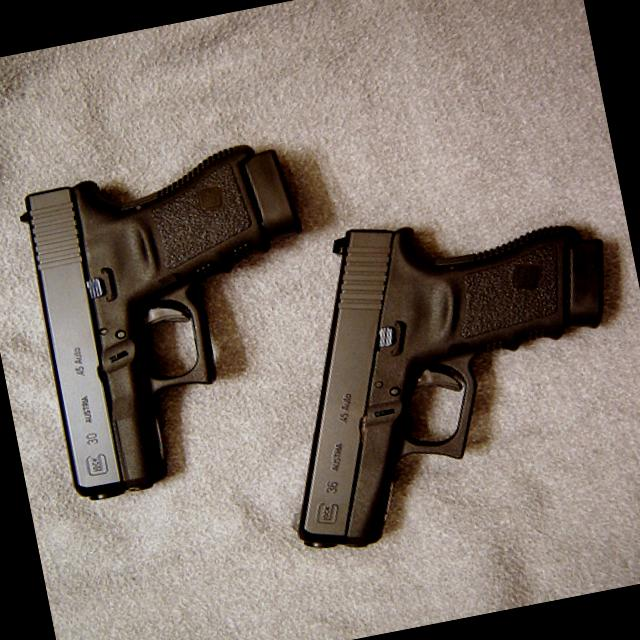handgun: (237, 184, 639, 562), (10, 134, 342, 512)
